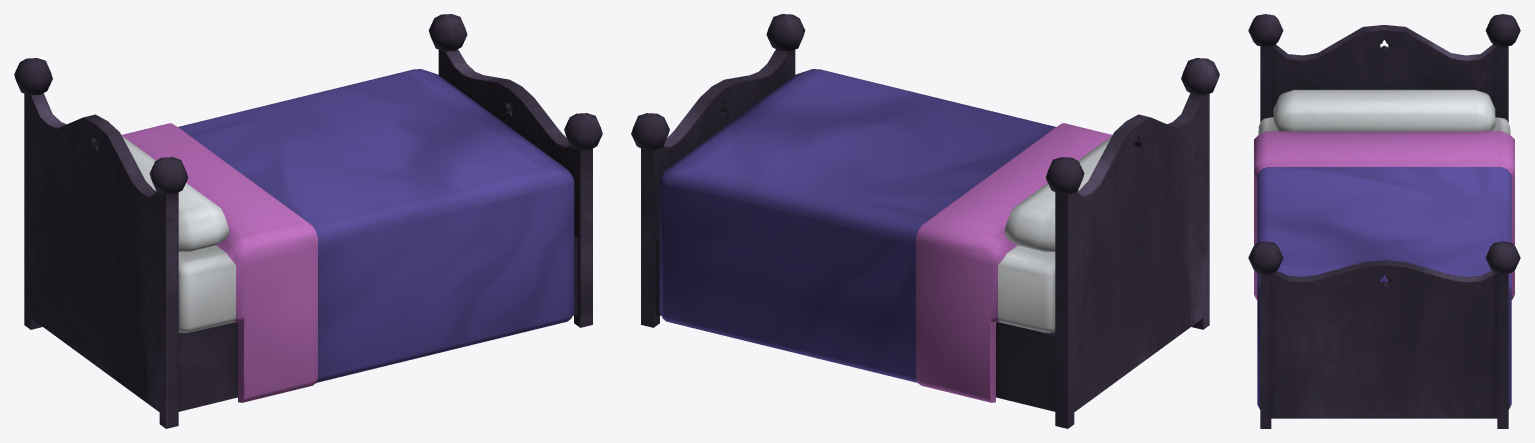
File: Prop_099_Bed_B_001.fbx
3 renders of one model, left to right at view 1: azimuth 30°, elevation 25°; view 2: azimuth 150°, elevation 25°; view 3: azimuth 270°, elevation 25°, orthographic. The views are drawn at different scales.
Parts seen in each view (by area): view 1: Prop_099_Bed_B_001; view 2: Prop_099_Bed_B_001; view 3: Prop_099_Bed_B_001.
Part boxes in pixels (x1,y1,x2,y2): Prop_099_Bed_B_001: (14,14,602,428); Prop_099_Bed_B_001: (631,14,1219,428); Prop_099_Bed_B_001: (1248,14,1520,428).
Size of the model in its own units: 2.03 by 1.16 by 1.22.
Materials: 1 (1 with a texture image).
